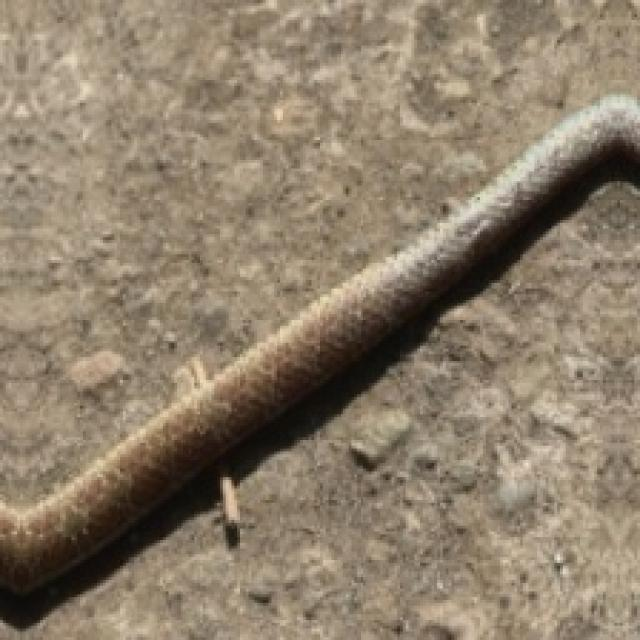mullers wolf snake: (0, 94, 637, 623)
